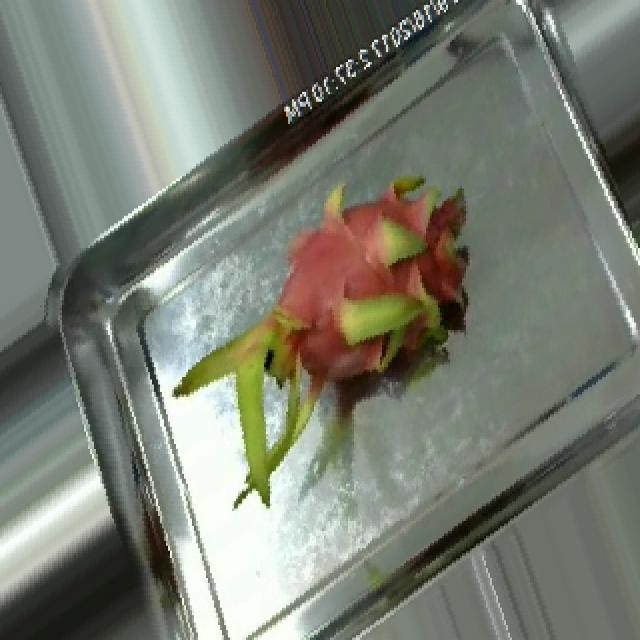fruit: (108, 94, 538, 541)
